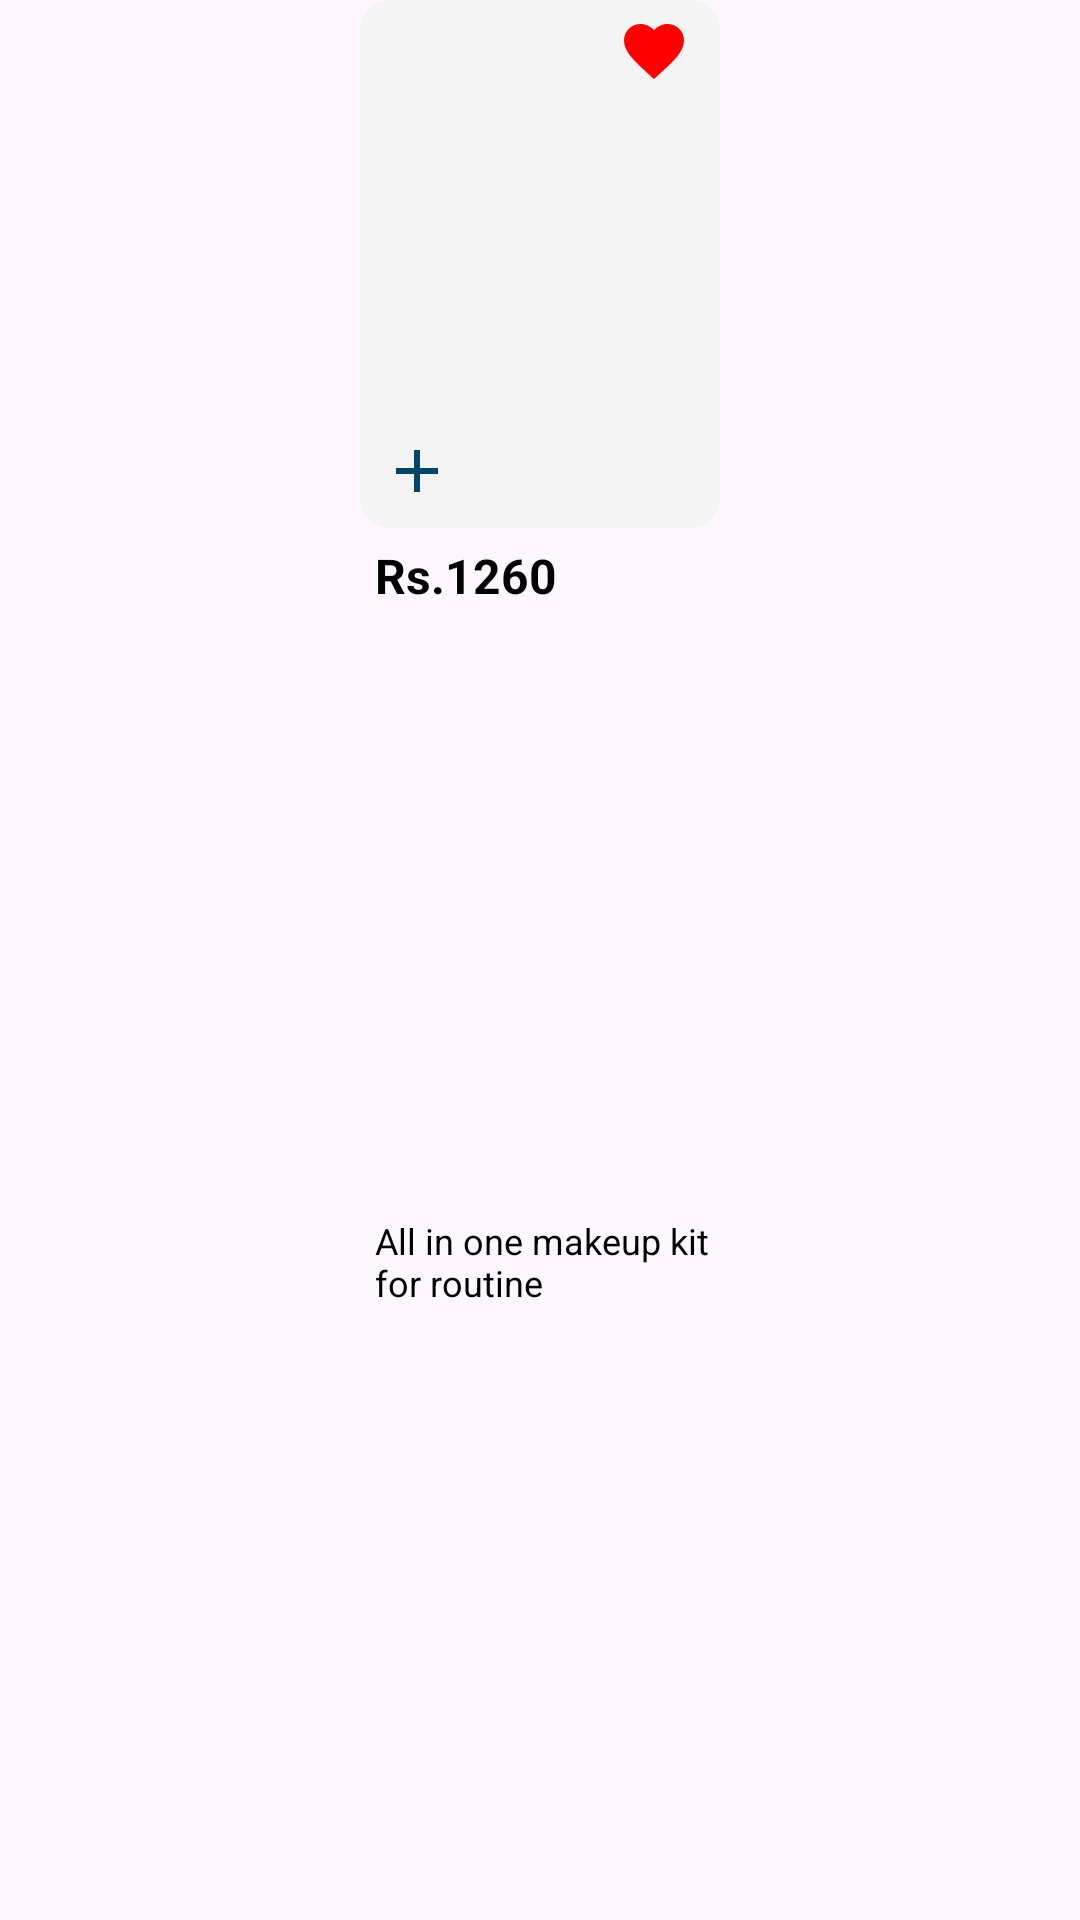

Named icons in this screenshot (1080*1920) and their bounding boxes, (x1, y1, x2, y2):
add: (396, 450, 438, 492)
filledheart: (624, 24, 684, 79)
